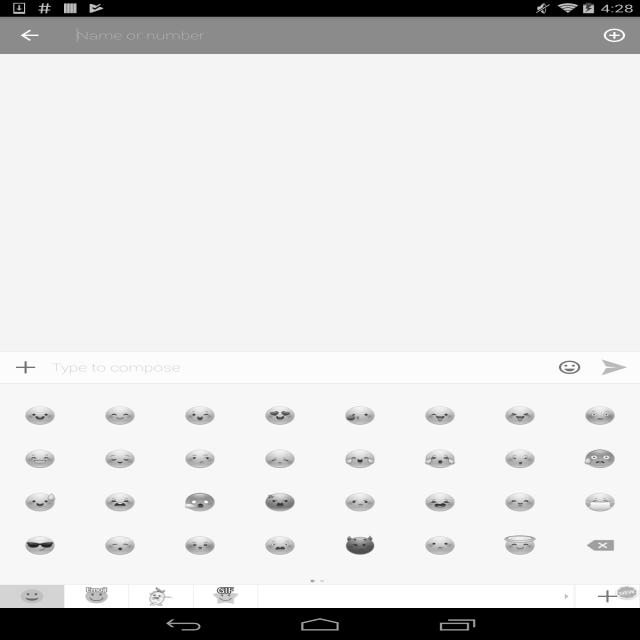EditText: (77, 19, 572, 52), (52, 358, 550, 377)
ImageButton: (589, 17, 640, 54), (0, 352, 51, 384), (589, 352, 640, 384), (554, 358, 584, 377)
ImageView: (0, 17, 60, 54), (24, 406, 56, 426), (104, 406, 136, 426), (184, 406, 216, 426), (264, 406, 296, 426), (344, 406, 376, 426), (424, 406, 456, 426), (504, 406, 536, 426), (584, 406, 616, 426), (24, 448, 56, 468), (104, 448, 136, 468), (184, 448, 216, 468), (264, 448, 296, 468), (344, 448, 376, 468), (424, 448, 456, 468), (504, 448, 536, 468), (584, 448, 616, 468), (24, 492, 56, 512), (104, 492, 136, 512), (184, 492, 216, 512), (264, 492, 296, 512), (344, 492, 376, 512), (424, 492, 456, 512), (504, 492, 536, 512), (584, 492, 616, 512), (24, 536, 56, 556), (104, 536, 136, 556), (184, 536, 216, 556), (264, 536, 296, 556), (344, 536, 376, 556), (424, 536, 456, 556), (504, 536, 536, 556), (584, 536, 616, 556), (16, 586, 48, 606), (80, 586, 112, 606), (145, 586, 177, 606), (210, 586, 242, 606), (592, 586, 624, 606), (614, 585, 640, 601), (561, 593, 572, 600), (310, 580, 315, 582), (320, 580, 324, 582)
